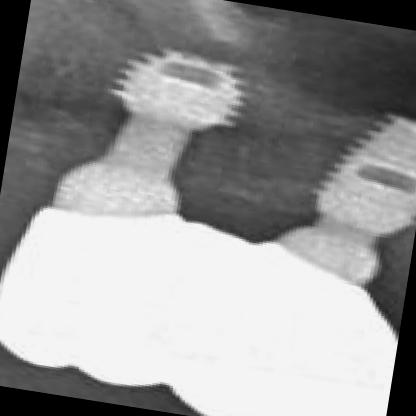Bicon: (108, 46, 247, 138), (304, 113, 416, 225)
